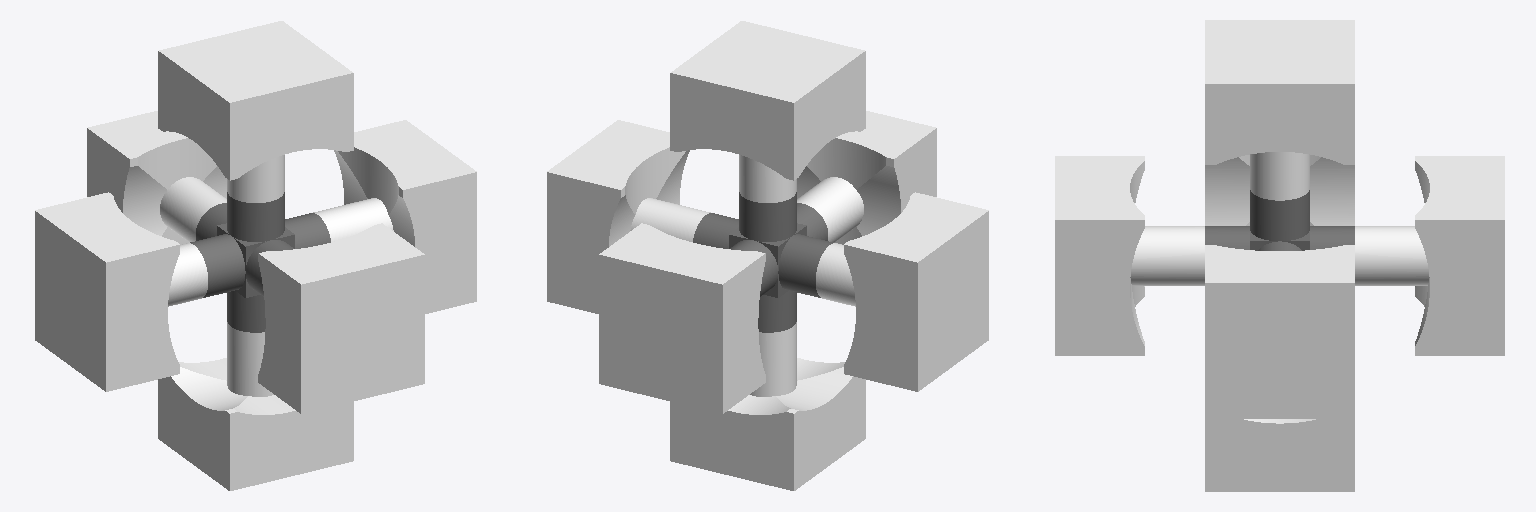
The robot description file, URDF, robot "centres":
<?xml version="1.0" ?>
<robot name="centres">

  <material name="white">
    <color rgba="1 1 1 1"/>
  </material>

  <material name="grey">
    <color rgba="0.5 0.5 0.5 1.0"/>
  </material>
            
  <material name="blue">
    <color rgba="0 0 .8 1"/>
  </material>

  <link name="noyau">
    <visual>
      <origin rpy="0 0 0" xyz="0 0 0"/>
      <geometry>
		<mesh filename="noyau.stl" scale="0.001 0.001 0.001"/>
      </geometry>
      <material name="grey"/>
    </visual>
    <collision>
      <origin rpy="0 0 0" xyz="0 0 0"/>
      <geometry>
	    <mesh filename="noyau.stl" scale="0.001 0.001 0.001"/>
      </geometry>
    </collision>
  </link>
      
  <link name="centre01">
    <visual>
      <origin rpy="0 0 0" xyz="0 0 0"/>
      <geometry>
		<mesh filename="centre01.stl" scale="0.001 0.001 0.001"/>
      </geometry>
      <material name="white"/>
    </visual>
    <collision>
      <origin rpy="0 0 0" xyz="0 0 0"/>
      <geometry>
	    <mesh filename="centre01.stl" scale="0.001 0.001 0.001"/>
      </geometry>
    </collision>
  </link>

  <link name="centre02">
    <visual>
      <origin rpy="0 0 0" xyz="0 0 0"/>
      <geometry>
		<mesh filename="centre02.stl" scale="0.001 0.001 0.001"/>
      </geometry>
      <material name="white"/>
    </visual>
    <collision>
      <origin rpy="0 0 0" xyz="0 0 0"/>
      <geometry>
	    <mesh filename="centre02.stl" scale="0.001 0.001 0.001"/>
      </geometry>
    </collision>
  </link>

  <link name="centre03">
    <visual>
      <origin rpy="0 0 0" xyz="0 0 0"/>
      <geometry>
		<mesh filename="centre03.stl" scale="0.001 0.001 0.001"/>
      </geometry>
      <material name="white"/>
    </visual>
    <collision>
      <origin rpy="0 0 0" xyz="0 0 0"/>
      <geometry>
	    <mesh filename="centre03.stl" scale="0.001 0.001 0.001"/>
      </geometry>
    </collision>
  </link>

  <link name="centre04">
    <visual>
      <origin rpy="0 0 0" xyz="0 0 0"/>
      <geometry>
		<mesh filename="centre04.stl" scale="0.001 0.001 0.001"/>
      </geometry>
      <material name="white"/>
    </visual>
    <collision>
      <origin rpy="0 0 0" xyz="0 0 0"/>
      <geometry>
	    <mesh filename="centre04.stl" scale="0.001 0.001 0.001"/>
      </geometry>
    </collision>
  </link>

  <link name="centre05">
    <visual>
      <origin rpy="0 0 0" xyz="0 0 0"/>
      <geometry>
		<mesh filename="centre05.stl" scale="0.001 0.001 0.001"/>
      </geometry>
      <material name="white"/>
    </visual>
    <collision>
      <origin rpy="0 0 0" xyz="0 0 0"/>
      <geometry>
	    <mesh filename="centre05.stl" scale="0.001 0.001 0.001"/>
      </geometry>
    </collision>
  </link>
  
  <link name="centre06">
    <visual>
      <origin rpy="0 0 0" xyz="0 0 0"/>
      <geometry>
		<mesh filename="centre06.stl" scale="0.001 0.001 0.001"/>
      </geometry>
      <material name="white"/>
    </visual>
    <collision>
      <origin rpy="0 0 0" xyz="0 0 0"/>
      <geometry>
	    <mesh filename="centre06.stl" scale="0.001 0.001 0.001"/>
      </geometry>
    </collision>
  </link>    
  
  <joint name="centre01_joint" type="continuous">
    <axis xyz="0 0 -1"/>
    <origin xyz="0 0 0"/>
    <parent link="noyau"/>
    <child link="centre01"/>
    <limit effort="100" velocity="100"/>
    <joint_properties damping="0.0" friction="0.0"/>
  </joint>

  <joint name="centre02_joint" type="continuous">
    <axis xyz="0 0 1"/>
    <origin xyz="0 0 0"/>
    <parent link="noyau"/>
    <child link="centre02"/>
    <limit effort="100" velocity="100"/>
    <joint_properties damping="0.0" friction="0.0"/>
  </joint>
  
  <joint name="centre03_joint" type="continuous">
    <axis xyz="0 1 0"/>
    <origin xyz="0 0 0"/>
    <parent link="noyau"/>
    <child link="centre03"/>
    <limit effort="100" velocity="100"/>
    <joint_properties damping="0.0" friction="0.0"/>
  </joint>
  
  <joint name="centre04_joint" type="continuous">
    <axis xyz="0 -1 0"/>
    <origin xyz="0 0 0"/>
    <parent link="noyau"/>
    <child link="centre04"/>
    <limit effort="100" velocity="100"/>
    <joint_properties damping="0.0" friction="0.0"/>
  </joint>
  
  <joint name="centre05_joint" type="continuous">
    <axis xyz="1 0 0"/>
    <origin xyz="0 0 0"/>
    <parent link="noyau"/>
    <child link="centre05"/>
    <limit effort="100" velocity="100"/>
    <joint_properties damping="0.0" friction="0.0"/>
  </joint>
  
  <joint name="centre06_joint" type="continuous">
    <axis xyz="-1 0 0"/>
    <origin xyz="0 0 0"/>
    <parent link="noyau"/>
    <child link="centre06"/>
    <limit effort="100" velocity="100"/>
    <joint_properties damping="0.0" friction="0.0"/>
  </joint>
   
</robot>

--- Facts derived from the render (not from the file) ---
The picture shows the robot from 3 angles, left to right: view 1: azimuth 30°, elevation 25°; view 2: azimuth 150°, elevation 25°; view 3: azimuth 270°, elevation 25°; orthographic projection.
Model centres with 7 links and 6 joints (6 continuous), rooted at noyau, posed all joints at 0.
Links seen in each view (by area): view 1: centre04, centre06, centre02, centre01, centre05, centre03, noyau; view 2: centre03, centre06, centre02, centre01, centre05, centre04, noyau; view 3: centre05, centre02, centre03, centre04, centre01, centre06, noyau.
Boxes of the visible links, x1,y1,x2,y2 form: centre04: [258, 223, 424, 413]; centre06: [35, 192, 207, 391]; centre02: [158, 21, 353, 202]; centre01: [158, 322, 353, 490]; centre05: [313, 120, 476, 313]; centre03: [87, 111, 226, 244]; noyau: [190, 192, 330, 332]; centre03: [599, 223, 765, 413]; centre06: [816, 192, 988, 391]; centre02: [670, 21, 865, 202]; centre01: [670, 322, 865, 490]; centre05: [547, 120, 710, 313]; centre04: [797, 111, 936, 244]; noyau: [693, 192, 833, 332]; centre05: [1205, 245, 1354, 418]; centre02: [1205, 20, 1354, 200]; centre03: [1355, 156, 1504, 355]; centre04: [1055, 156, 1204, 355]; centre01: [1205, 419, 1354, 491]; centre06: [1205, 155, 1354, 225]; noyau: [1205, 190, 1354, 250].
Bounding box of the posed robot: 0.0571 × 0.0572 × 0.0571 m (x, y, z).
Meshes: 7 distinct files referenced, 7 mesh visuals loaded (7 binary STL).